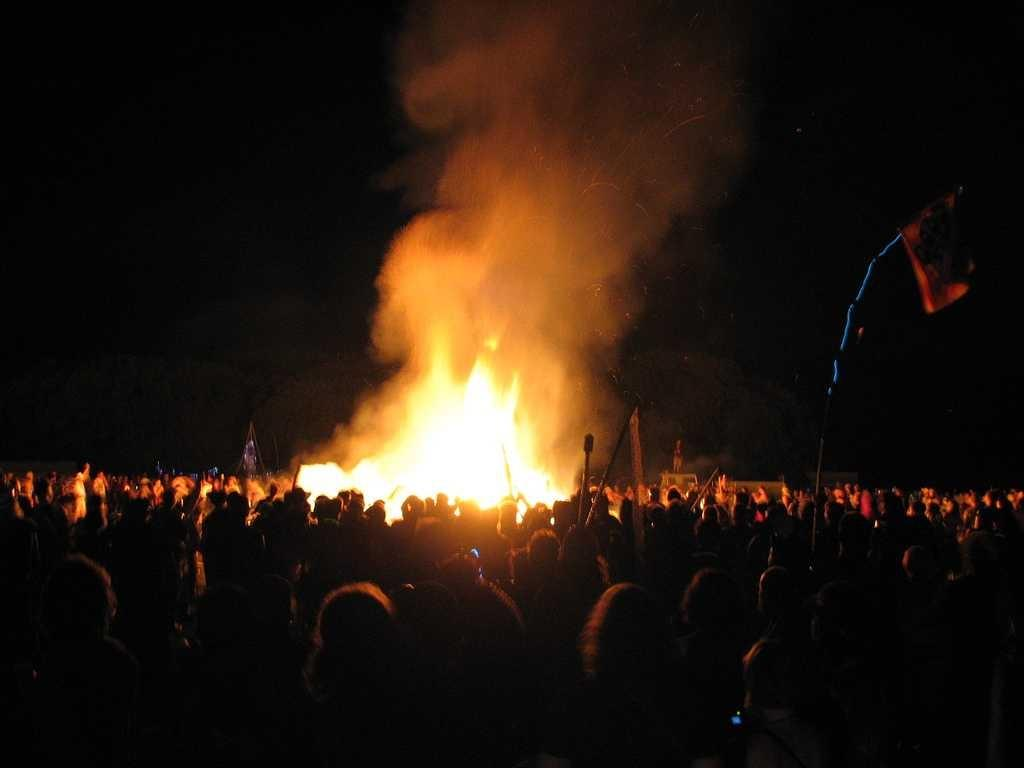fire: (396, 384, 518, 490)
smoke: (424, 10, 672, 274)
